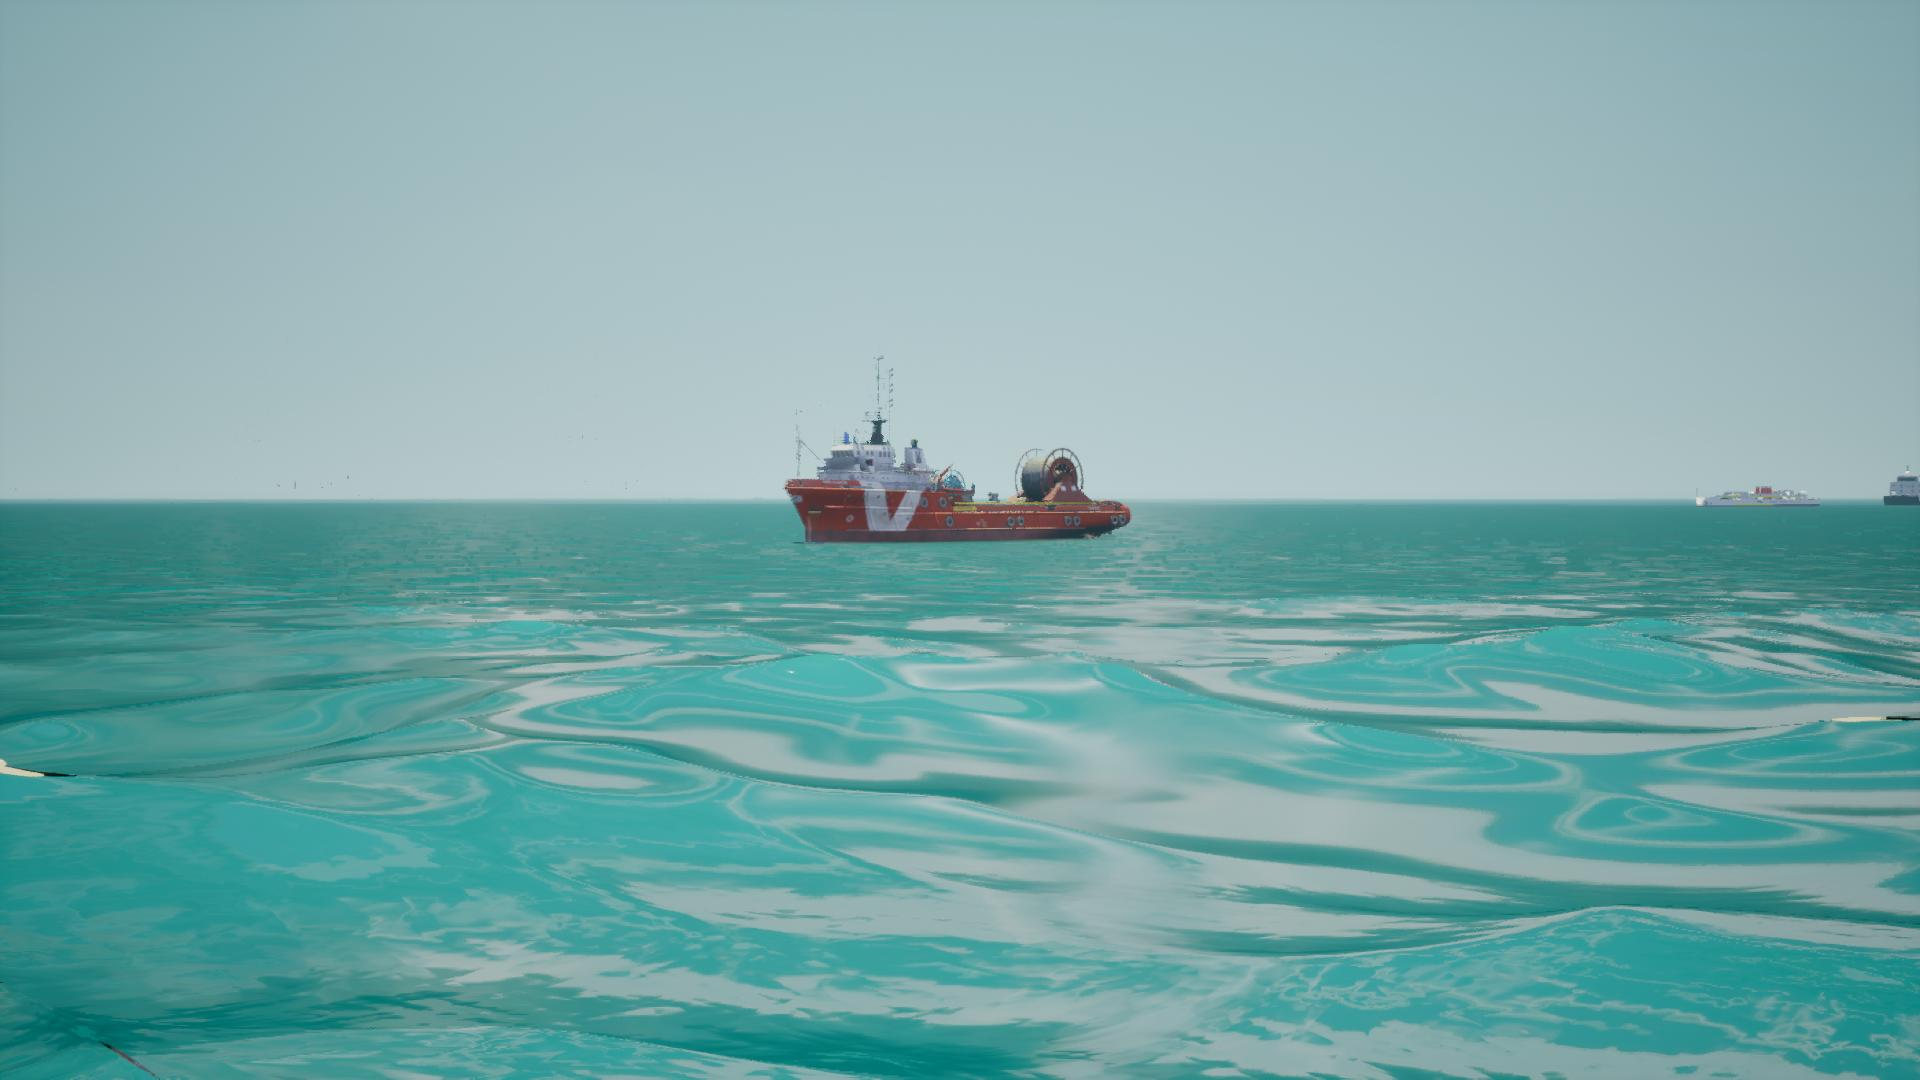Tug Boat: (785, 353, 1131, 550), (1878, 475, 1917, 510)
